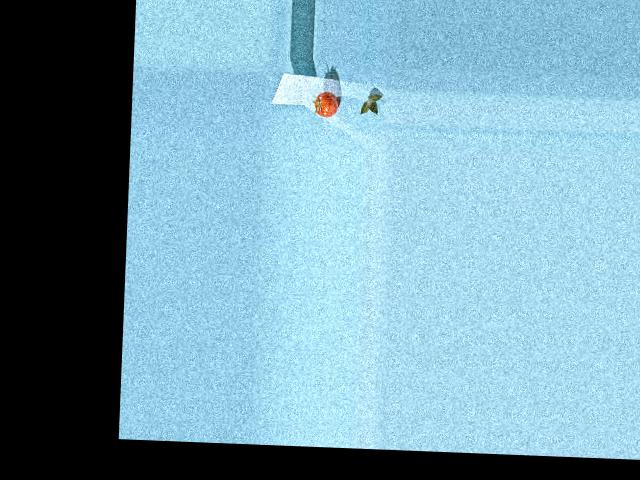tomato: (313, 90, 338, 118)
